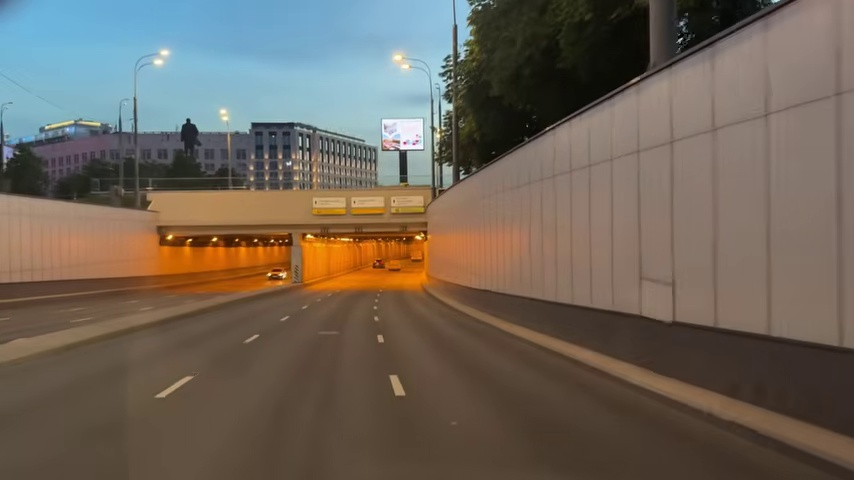acesa: (393, 52, 409, 69), (152, 50, 168, 66), (218, 108, 231, 123)
